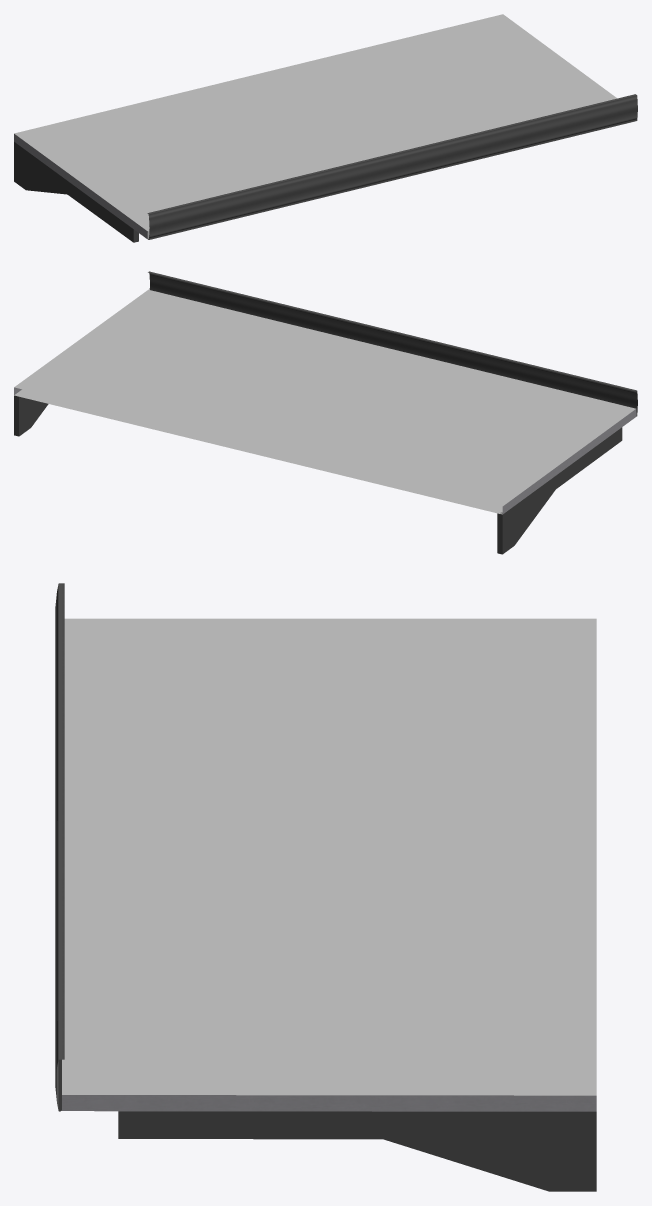
File: SM_Grocery_Kit_Fridge_4x8_Shelf_Single_01.fbx
3 renders of one model, top to bottom at view 1: azimuth 30°, elevation 25°; view 2: azimuth 150°, elevation 25°; view 3: azimuth 270°, elevation 25°, orthographic. The views are drawn at different scales.
Visible parts, largest first — view 1: SM_Grocery_Kit_Fridge_4x8_Shelf_5_Flat_01_LOD0; view 2: SM_Grocery_Kit_Fridge_4x8_Shelf_5_Flat_01_LOD0; view 3: SM_Grocery_Kit_Fridge_4x8_Shelf_5_Flat_01_LOD0.
Part boxes in pixels (<box>): SM_Grocery_Kit_Fridge_4x8_Shelf_5_Flat_01_LOD0: <box>14,14,637,242</box>; SM_Grocery_Kit_Fridge_4x8_Shelf_5_Flat_01_LOD0: <box>14,271,637,554</box>; SM_Grocery_Kit_Fridge_4x8_Shelf_5_Flat_01_LOD0: <box>55,583,596,1191</box>.
Size of the model in its own units: 123 by 15.77 by 58.92.
1 material, 1 textured.
